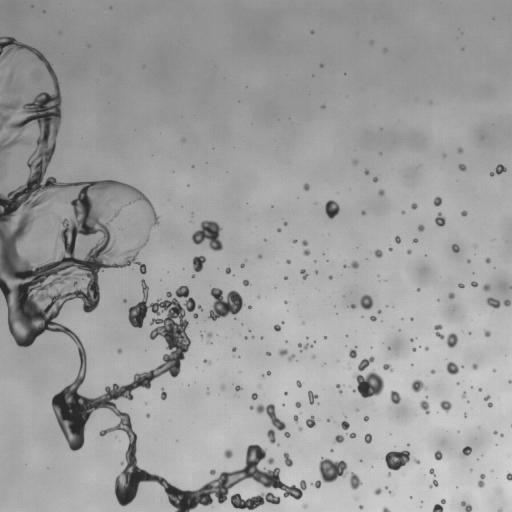droplet: (209, 288, 244, 320), (311, 457, 347, 488), (192, 220, 222, 251), (353, 370, 383, 397), (384, 450, 410, 470), (325, 200, 339, 218), (360, 294, 373, 310), (192, 256, 205, 271), (411, 379, 426, 392), (350, 473, 361, 489), (486, 297, 501, 308), (432, 499, 445, 511), (446, 362, 458, 374), (435, 212, 445, 226), (390, 390, 400, 404), (420, 399, 429, 414), (440, 400, 451, 412), (3, 82, 17, 91), (308, 391, 317, 404), (267, 429, 275, 443), (284, 452, 292, 466), (461, 501, 472, 511), (306, 416, 315, 427), (462, 446, 471, 456), (349, 346, 356, 358), (433, 197, 442, 206), (340, 420, 349, 429), (364, 433, 372, 443), (434, 450, 442, 460), (224, 449, 232, 458), (300, 269, 307, 279), (278, 349, 288, 356), (334, 435, 344, 442), (374, 249, 382, 257), (430, 479, 438, 487), (383, 364, 392, 371), (458, 164, 466, 171), (452, 244, 459, 252), (482, 284, 490, 291), (503, 299, 511, 306), (273, 324, 281, 331), (351, 261, 358, 268), (429, 468, 435, 476), (303, 183, 309, 190), (418, 224, 424, 231), (395, 236, 401, 243), (303, 249, 310, 255), (484, 330, 490, 337), (288, 354, 294, 361), (374, 488, 381, 494), (378, 189, 384, 195), (411, 203, 417, 209), (461, 210, 467, 216), (243, 279, 249, 285), (251, 393, 257, 399), (295, 401, 301, 407), (225, 267, 230, 274), (204, 359, 211, 364), (296, 380, 301, 387), (348, 433, 355, 438), (413, 458, 420, 463), (506, 473, 511, 480), (382, 507, 390, 511), (302, 240, 307, 246), (471, 281, 477, 286), (448, 293, 454, 298), (370, 316, 376, 321), (235, 385, 241, 390), (284, 432, 290, 437), (268, 458, 273, 464), (294, 415, 298, 422), (364, 169, 369, 174), (485, 258, 490, 263), (207, 332, 212, 337), (472, 364, 477, 369), (210, 469, 215, 474), (0, 160, 3, 167), (458, 148, 462, 153), (373, 177, 377, 182), (407, 249, 411, 254), (458, 283, 463, 287), (350, 304, 355, 308), (193, 313, 197, 318), (462, 392, 465, 398), (361, 211, 365, 215), (413, 238, 417, 242), (286, 259, 290, 263), (232, 347, 236, 351), (117, 349, 121, 353), (364, 416, 368, 420), (493, 430, 497, 434), (359, 505, 363, 509), (497, 508, 502, 511), (353, 160, 357, 163), (293, 239, 296, 243), (389, 247, 392, 251), (240, 264, 244, 267), (329, 275, 332, 279), (266, 352, 270, 355), (431, 369, 434, 373), (266, 371, 270, 374), (284, 222, 287, 225), (277, 228, 280, 231), (258, 255, 261, 258), (35, 258, 38, 261), (378, 310, 381, 313), (410, 338, 413, 341), (425, 347, 428, 350), (221, 385, 224, 388), (478, 388, 481, 391), (146, 414, 149, 417), (303, 504, 306, 507), (322, 105, 324, 108), (401, 211, 404, 213), (467, 260, 470, 262), (343, 265, 346, 267), (191, 275, 194, 277), (284, 276, 286, 279), (248, 306, 251, 308), (410, 318, 413, 320), (413, 348, 415, 351), (312, 355, 315, 357), (509, 380, 511, 383), (284, 392, 287, 394), (299, 427, 301, 430), (500, 434, 503, 436), (407, 443, 409, 446), (330, 449, 333, 451), (311, 31, 313, 33), (10, 75, 12, 77), (122, 204, 124, 206), (315, 271, 317, 273), (417, 288, 419, 290), (285, 301, 287, 303), (282, 321, 284, 323), (207, 341, 209, 343), (493, 369, 495, 371), (262, 375, 264, 377), (464, 414, 466, 416), (327, 419, 329, 421), (388, 473, 390, 475), (385, 487, 387, 489)
ligament: (0, 37, 300, 511), (249, 404, 285, 430), (230, 492, 280, 509), (434, 324, 457, 347), (358, 356, 374, 371), (490, 164, 506, 176), (298, 343, 313, 351), (484, 395, 492, 407), (478, 474, 485, 487), (161, 388, 166, 399), (336, 384, 341, 392)
